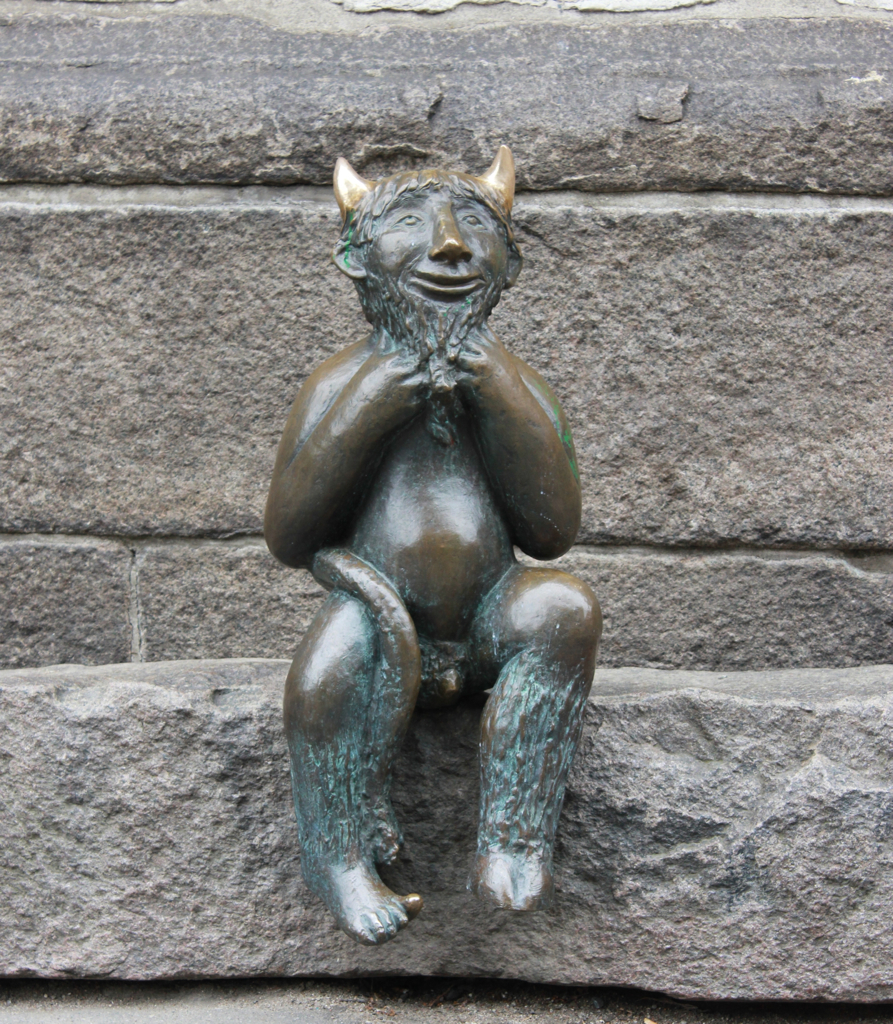face: (369, 162, 496, 330)
